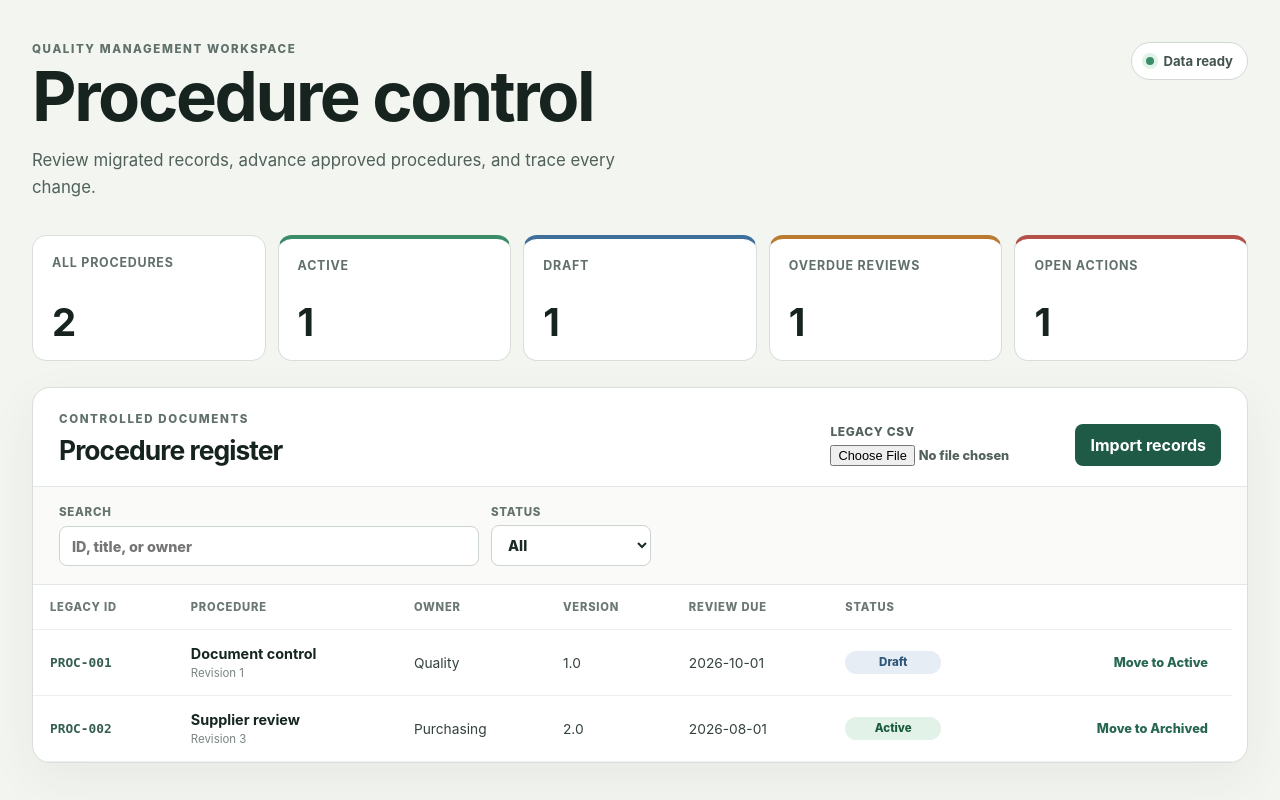
Scenario: procedure register › keeps a confirmed status change when the follow-up refresh fails
Expected: the text "Document control" is shown, [191, 645, 317, 662]
Click the button with aria-label "Move PROC-001 to Active".
click(1161, 663)  # box [1107, 648, 1215, 677]
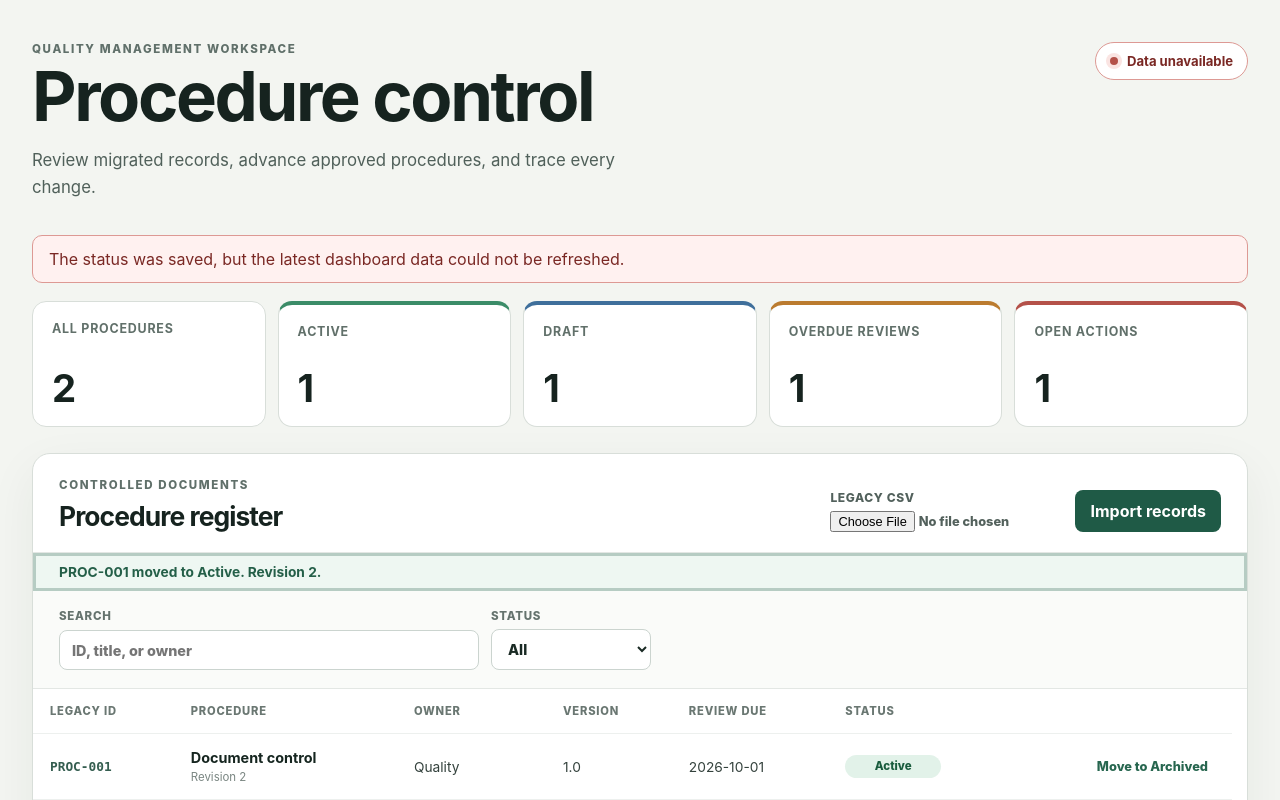
Result: the text "Revision 2" is shown at [191, 770, 246, 784]
Result: the message "PROC-001 moved to Active. Revision 2." is shown at [33, 553, 1247, 591]
Result: the message "The status was saved, but the latest dashboard data could not be refreshed." is shown at [32, 235, 1248, 283]
